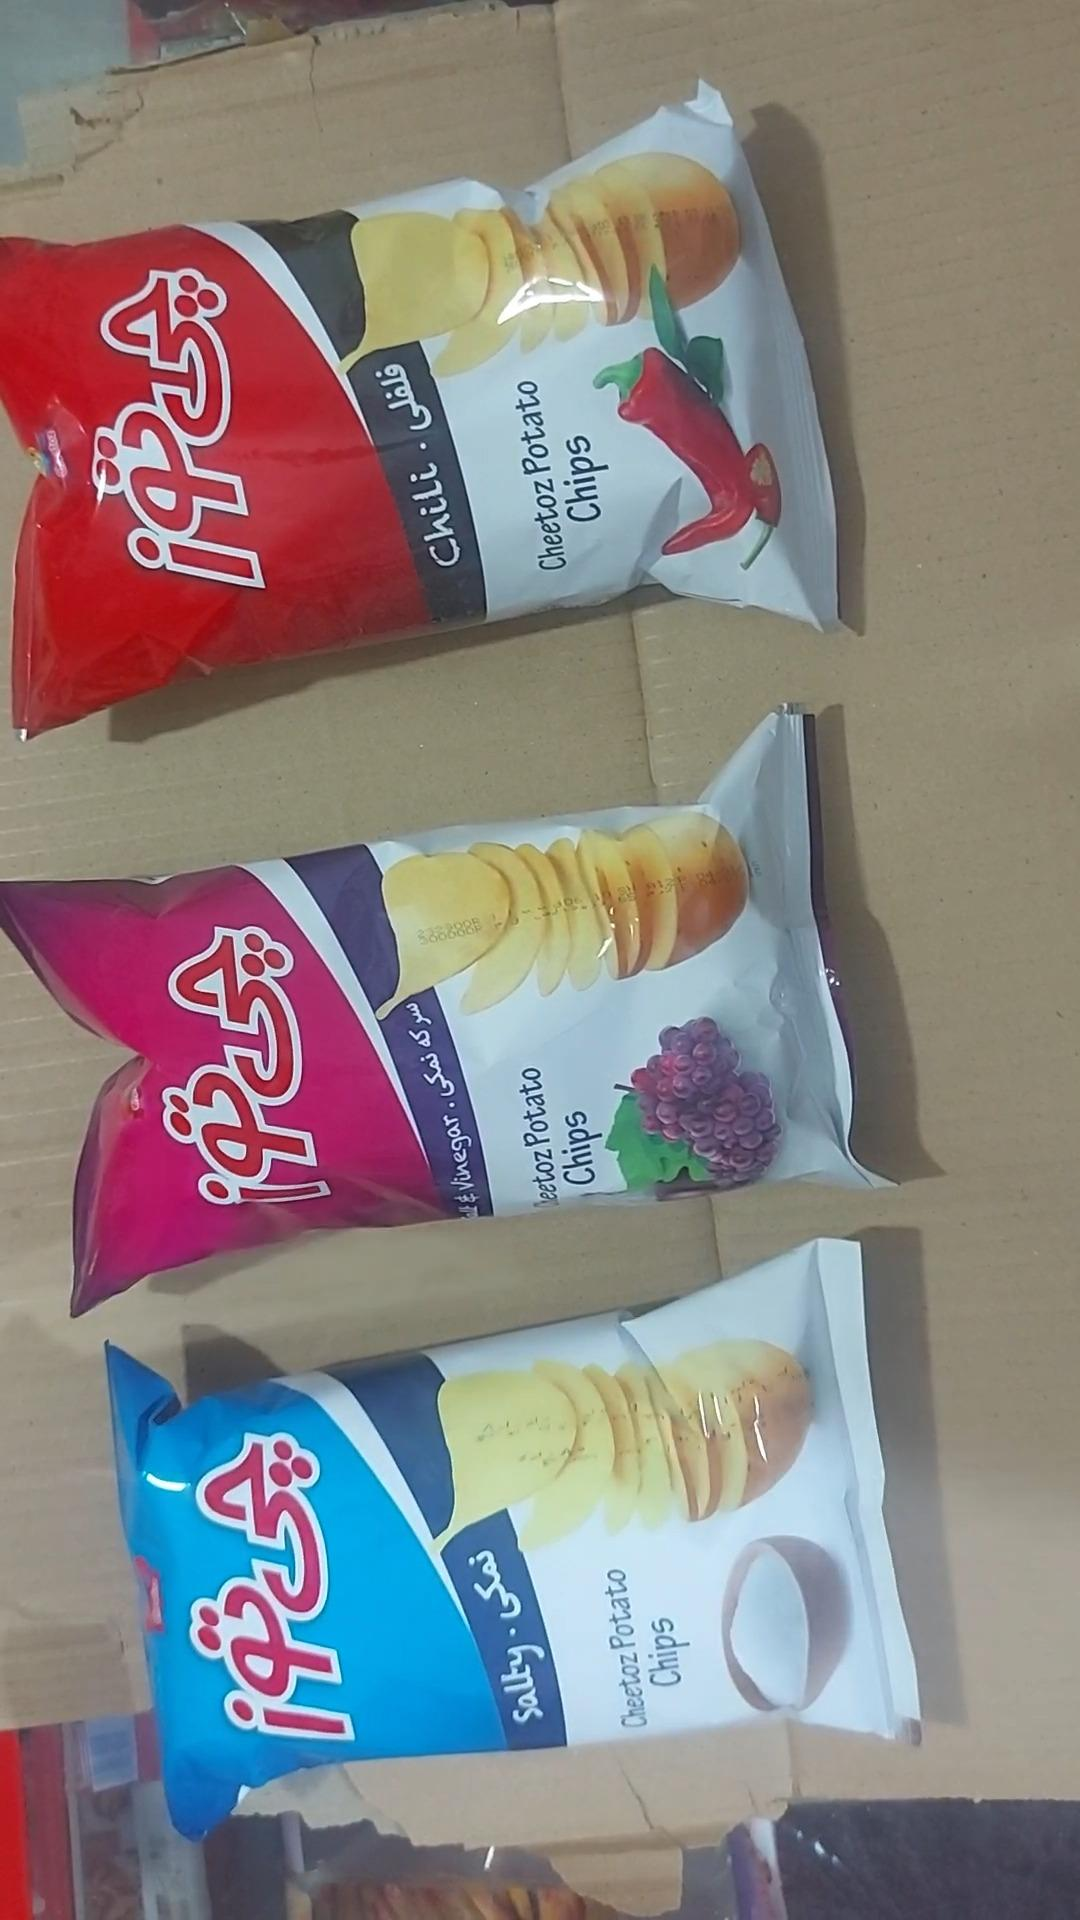Cheetoz chili chips: (0, 82, 847, 745)
Cheetoz salty chips: (108, 1240, 922, 1844)
Cheetoz vinegar chips: (0, 708, 891, 1317)
